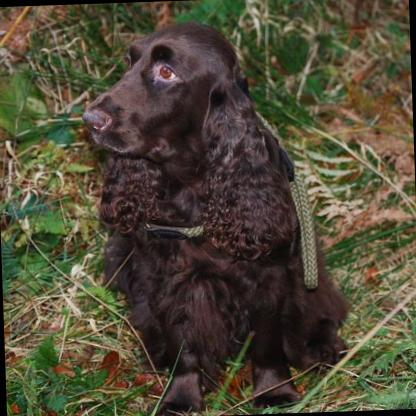Sussex_spaniel: (78, 17, 349, 416)
